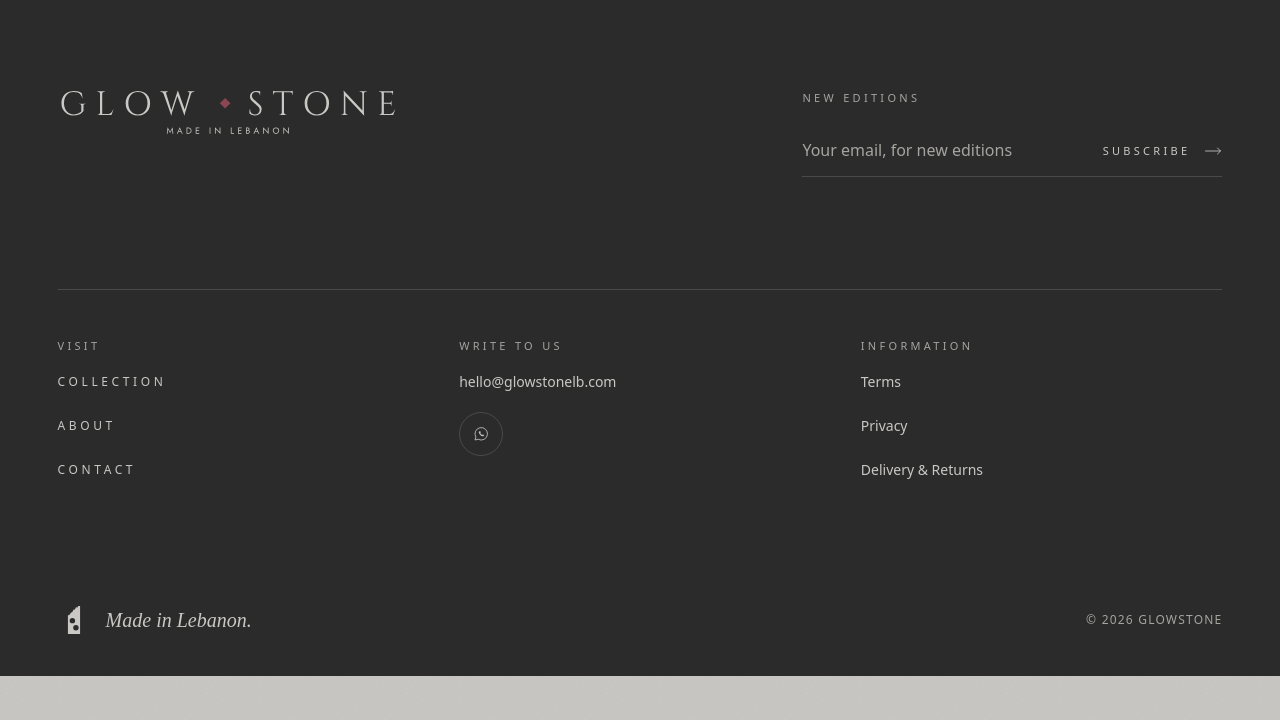
SiteFooter › adds the email to the news list and thanks the visitor
Type "sara@example.com" into the field labelled "Your email, for new editions" at (942, 151), box [802, 126, 1083, 176]
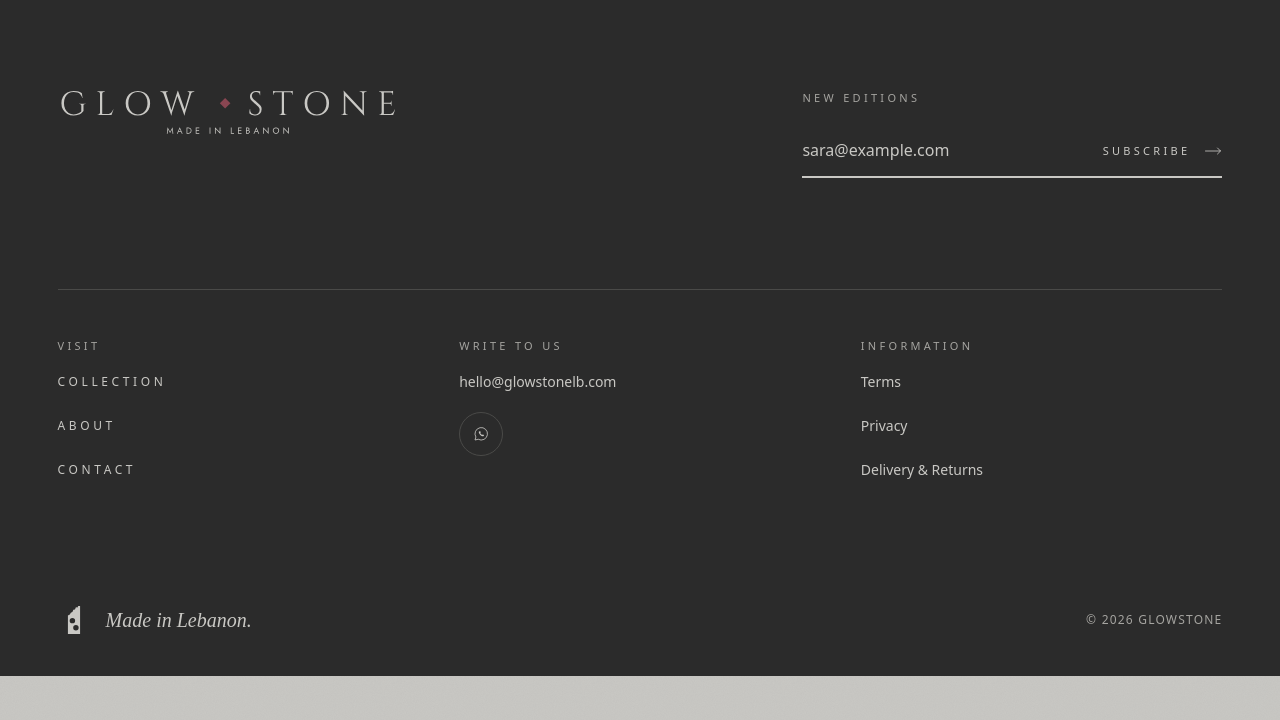
Click the button "Subscribe" at (1162, 151), box [1103, 129, 1222, 173]
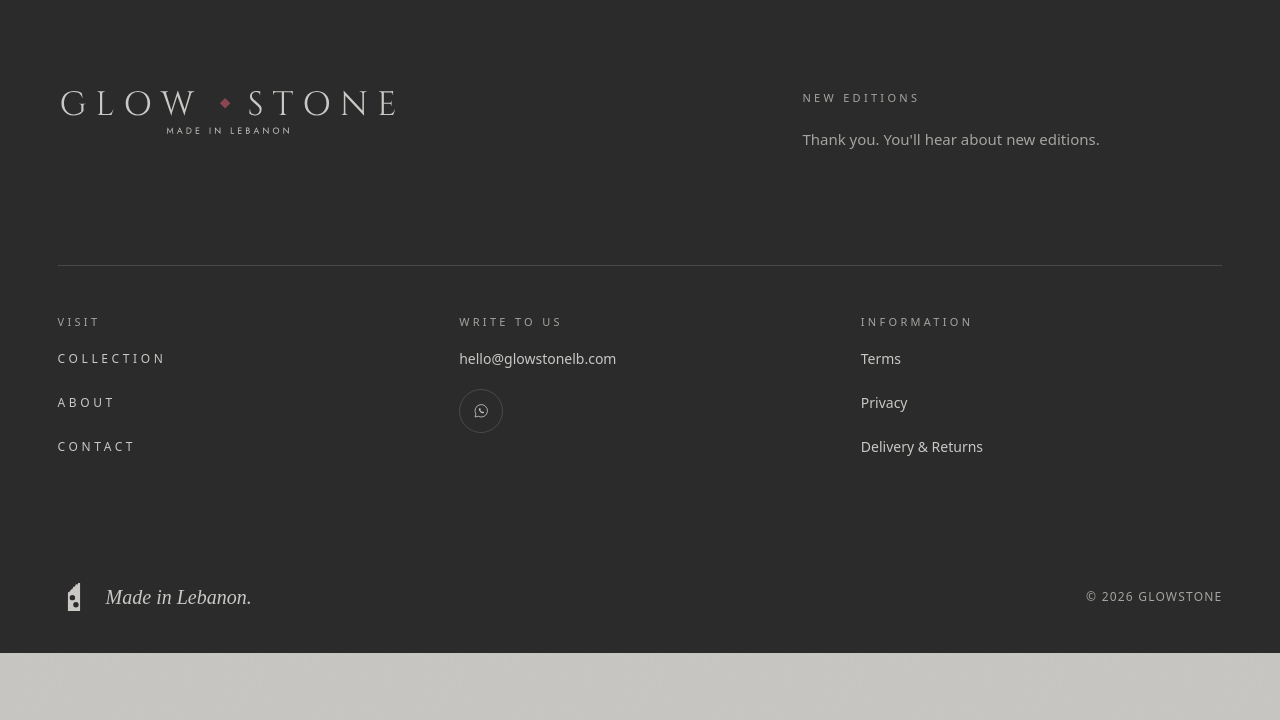
Check: the text "Thank you. You'll hear about new editions." is shown, box [802, 129, 1100, 149]
